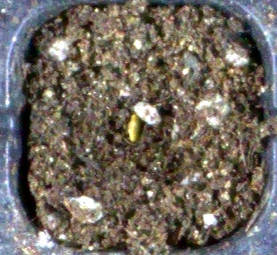chilli seed: (128, 113, 137, 144)
